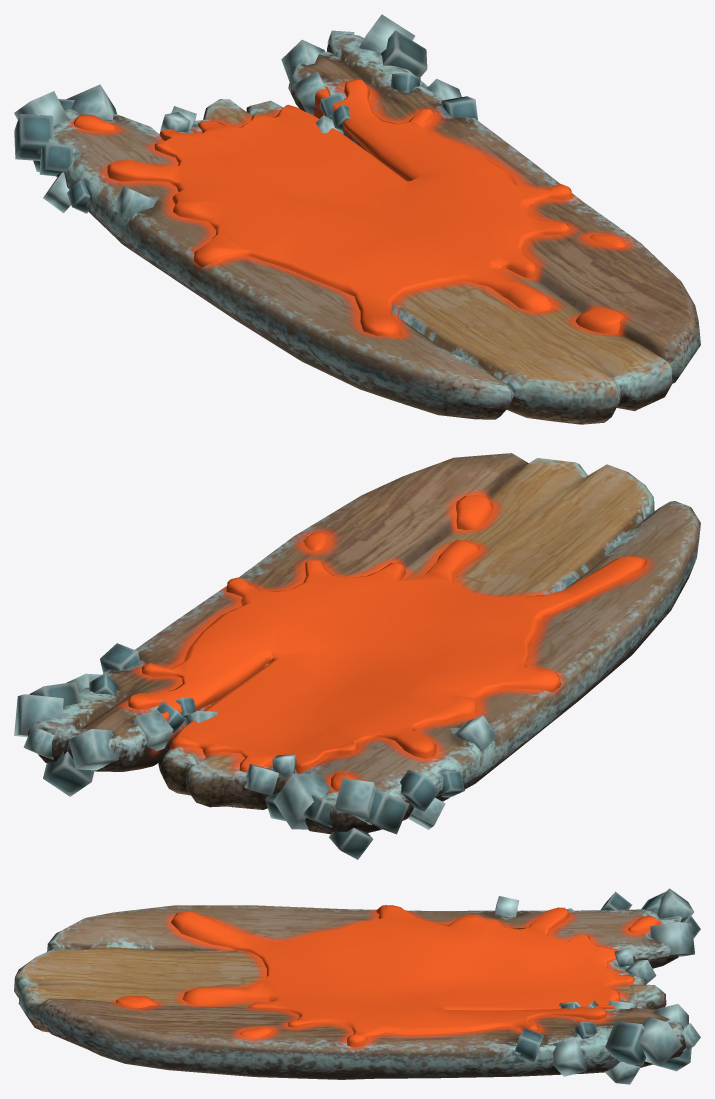
3 renders of one model, top to bottom at view 1: azimuth 30°, elevation 25°; view 2: azimuth 150°, elevation 25°; view 3: azimuth 270°, elevation 25°, orthographic. The views are drawn at different scales.
Parts seen in each view (by area): view 1: Board__Body, Ink_S0__M_InkMesh; view 2: Board__Body, Ink_S0__M_InkMesh; view 3: Board__Body, Ink_S0__M_InkMesh.
Boxes of the visible parts, left/top/right/bottom form: Board__Body: left=14, top=14, right=700, bottom=424; Ink_S0__M_InkMesh: left=73, top=79, right=625, bottom=337; Board__Body: left=14, top=453, right=700, bottom=859; Ink_S0__M_InkMesh: left=128, top=495, right=646, bottom=790; Board__Body: left=14, top=888, right=700, bottom=1084; Ink_S0__M_InkMesh: left=115, top=905, right=659, bottom=1047.
Bounding box in the file's own units: 1.22 × 0.2717 × 2.3.
Materials: 2 (2 with a texture image).
